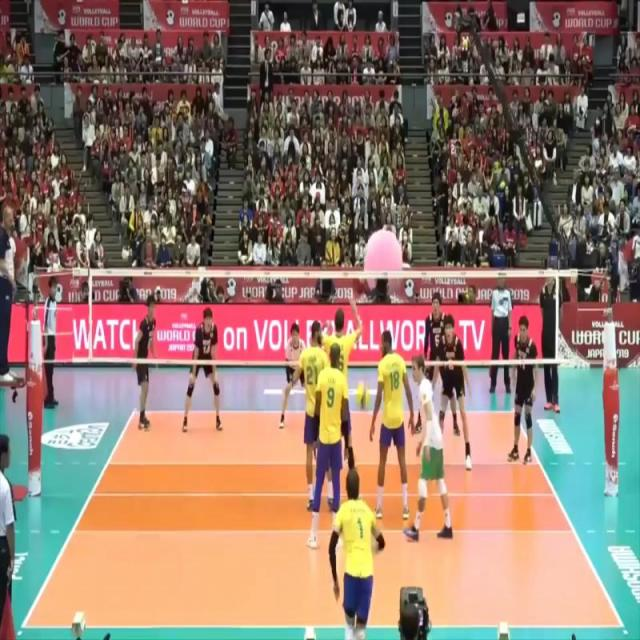volleyball: (353, 381, 372, 414)
